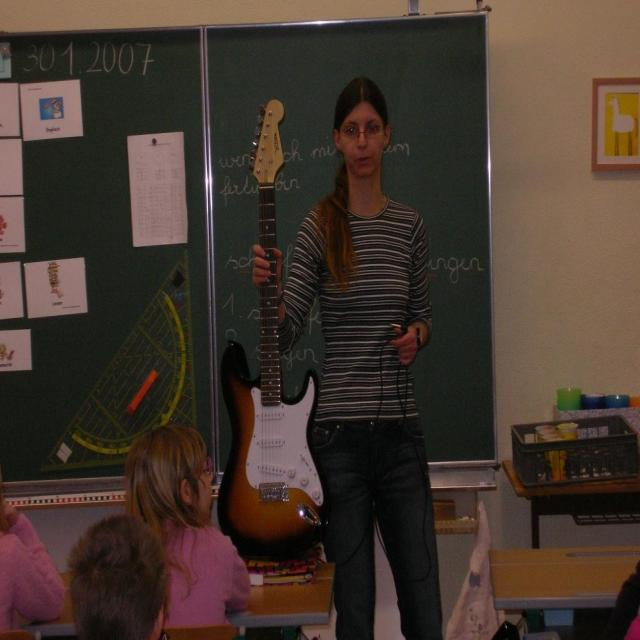guitar: (216, 99, 335, 566)
